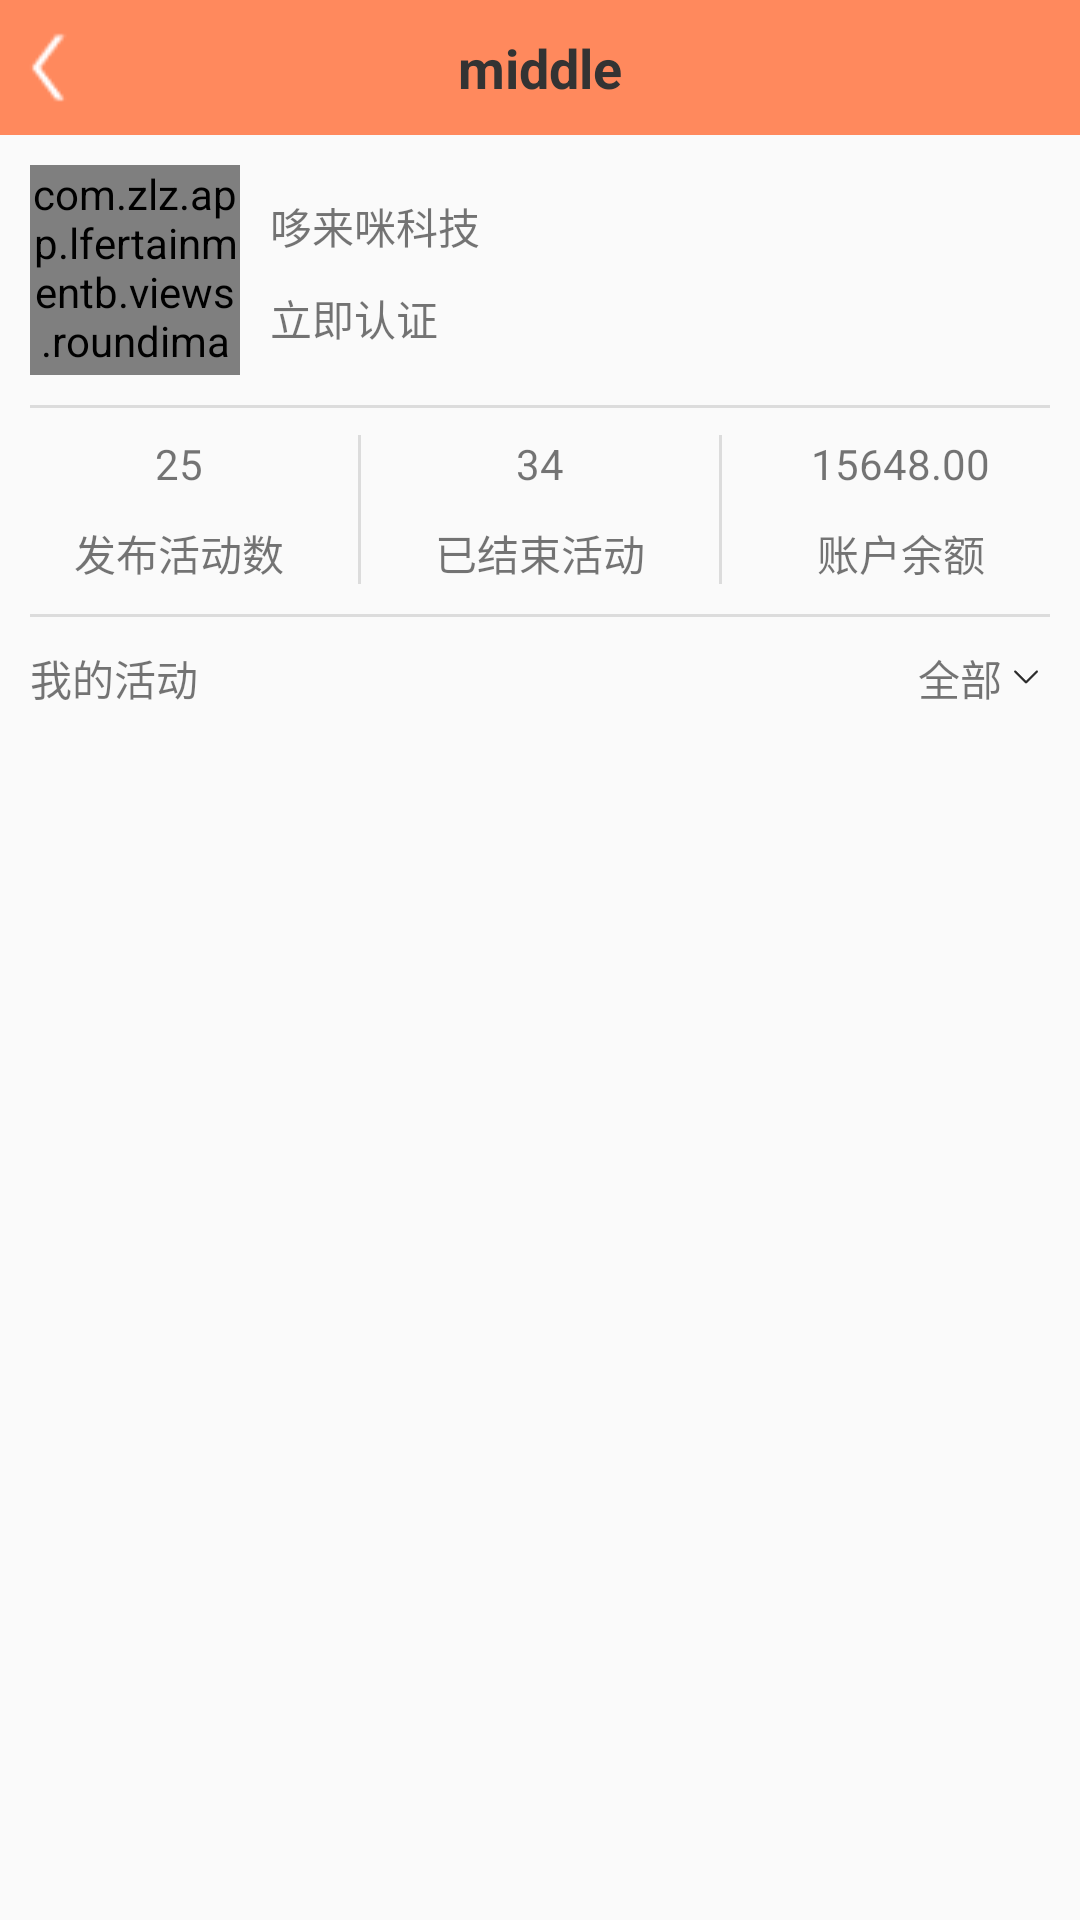

Icon bounding boxes for this 1080 × 1920 phone screenshot, format [left=x1, top=y1, right=x2, bottom=y2]:
back: [left=32, top=34, right=64, bottom=101]
